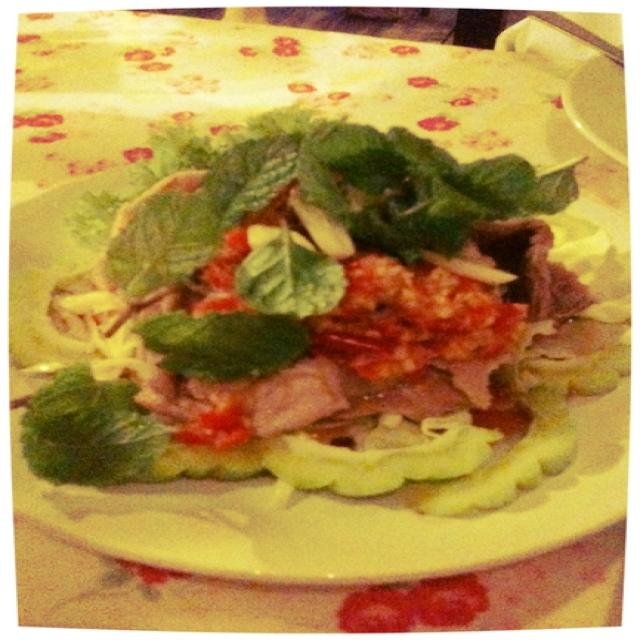猪肉菜式: (49, 80, 613, 578)
